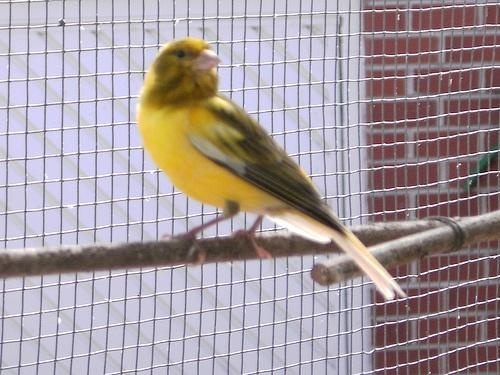bird: (138, 38, 407, 298)
